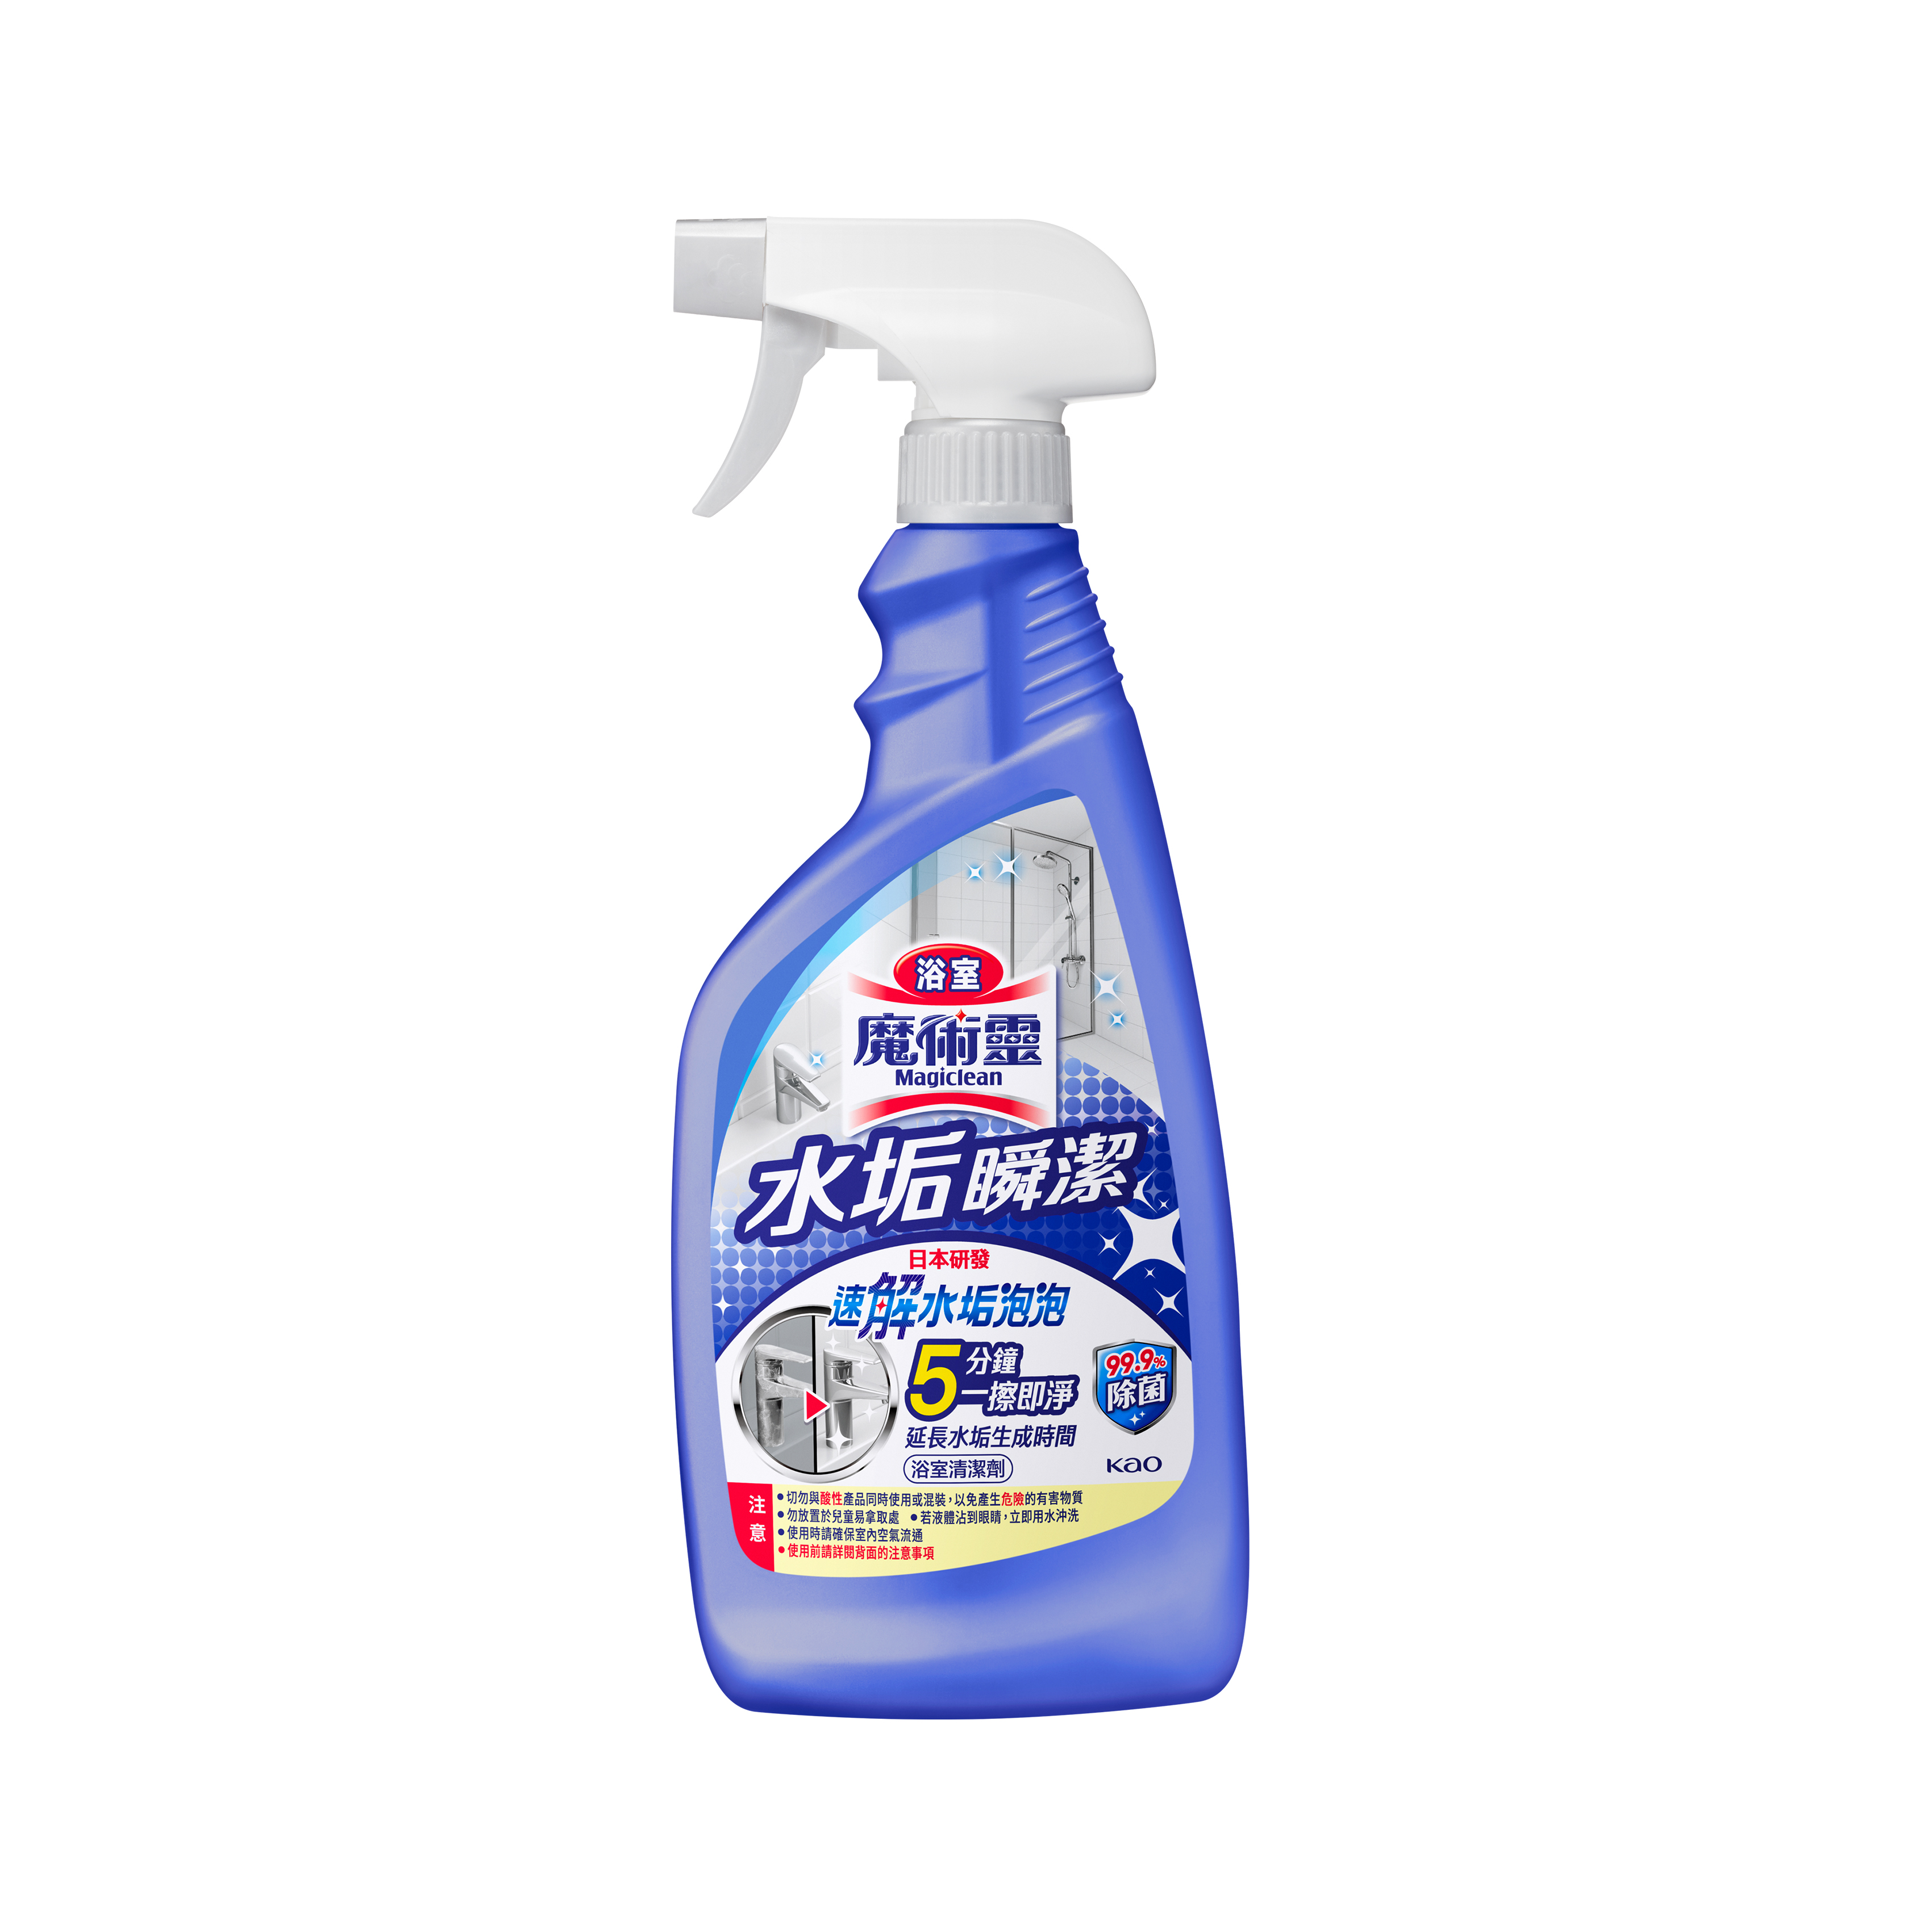cleaner: (610, 203, 1281, 1725)
